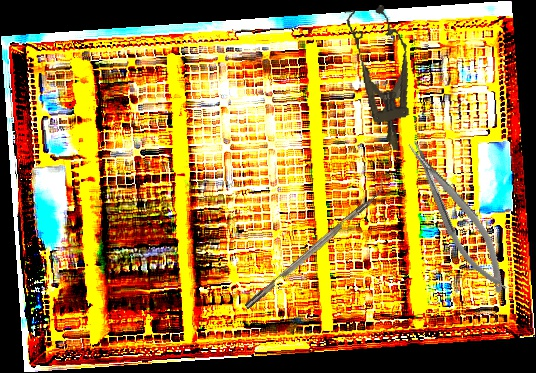Chopper: (238, 178, 391, 310)
Needle Holder: (400, 131, 517, 301)
Speculum: (341, 2, 425, 155)
